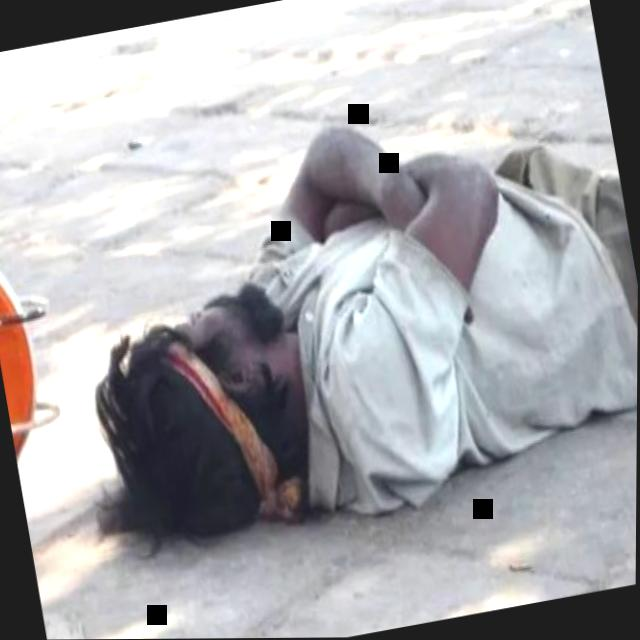Fall-Detected: (29, 36, 640, 593)
